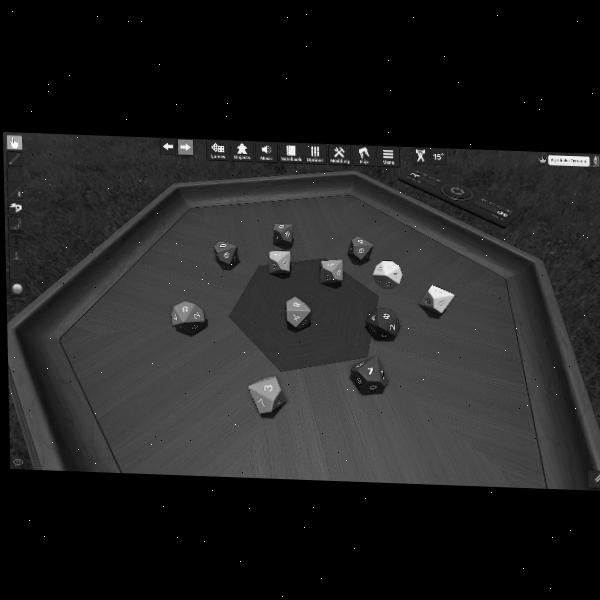d10: (248, 373, 287, 412), (350, 354, 386, 394), (171, 301, 207, 335), (365, 307, 399, 340), (419, 284, 452, 314), (286, 295, 312, 330), (372, 260, 401, 289), (346, 236, 372, 262), (214, 240, 237, 266), (318, 258, 341, 284), (269, 250, 292, 275), (273, 223, 293, 246)
